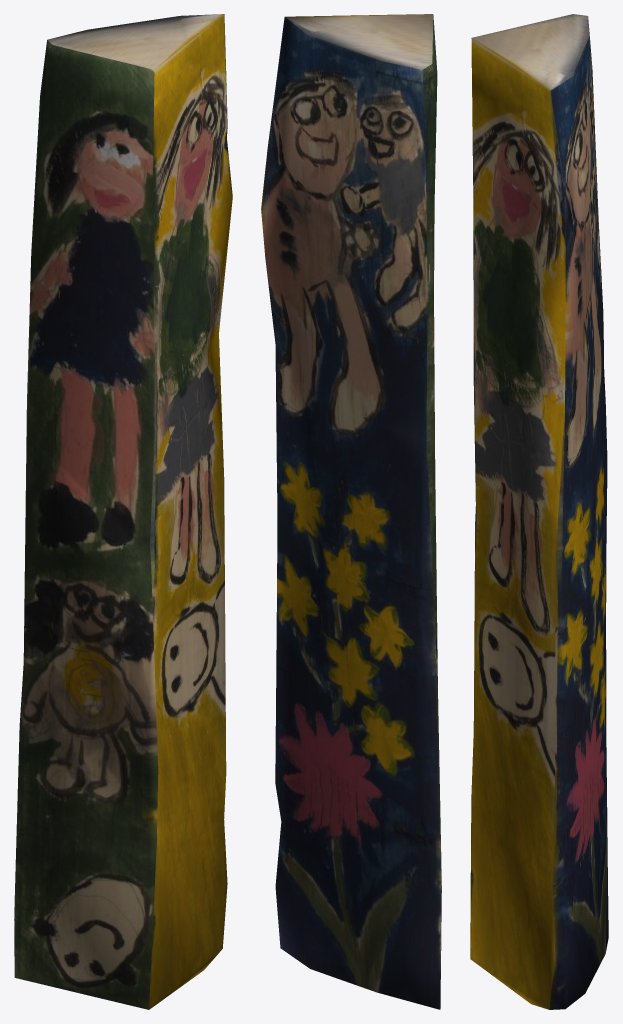
File: 490_G_GMY_124.obj
3 views of the same model, side by side, from view 1: azimuth 30°, elevation 25°; view 2: azimuth 150°, elevation 25°; view 3: azimuth 270°, elevation 25° (orthographic).
Visible parts, largest first — view 1: 490_G_GMY_124; view 2: 490_G_GMY_124; view 3: 490_G_GMY_124.
Boxes of the visible parts, left/top/right/bottom form: 490_G_GMY_124: left=14, top=14, right=232, bottom=1009; 490_G_GMY_124: left=261, top=14, right=441, bottom=1009; 490_G_GMY_124: left=470, top=14, right=608, bottom=1009.
Size of the model in its own units: 42.7 by 192 by 25.97.
Materials: 1 (1 with a texture image).
